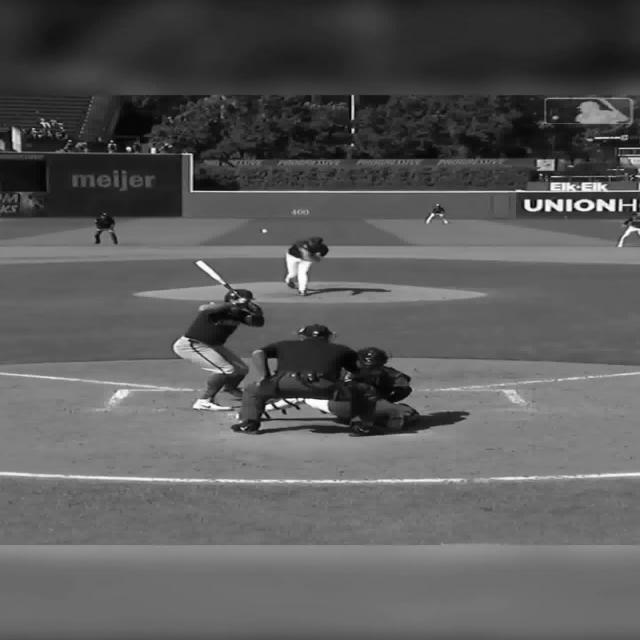baseball: (261, 228, 267, 233)
bat: (193, 260, 235, 293)
shoe: (192, 399, 232, 411), (230, 419, 260, 434), (349, 417, 371, 436), (384, 416, 404, 430), (402, 408, 418, 424), (222, 388, 243, 400), (297, 290, 306, 296)
